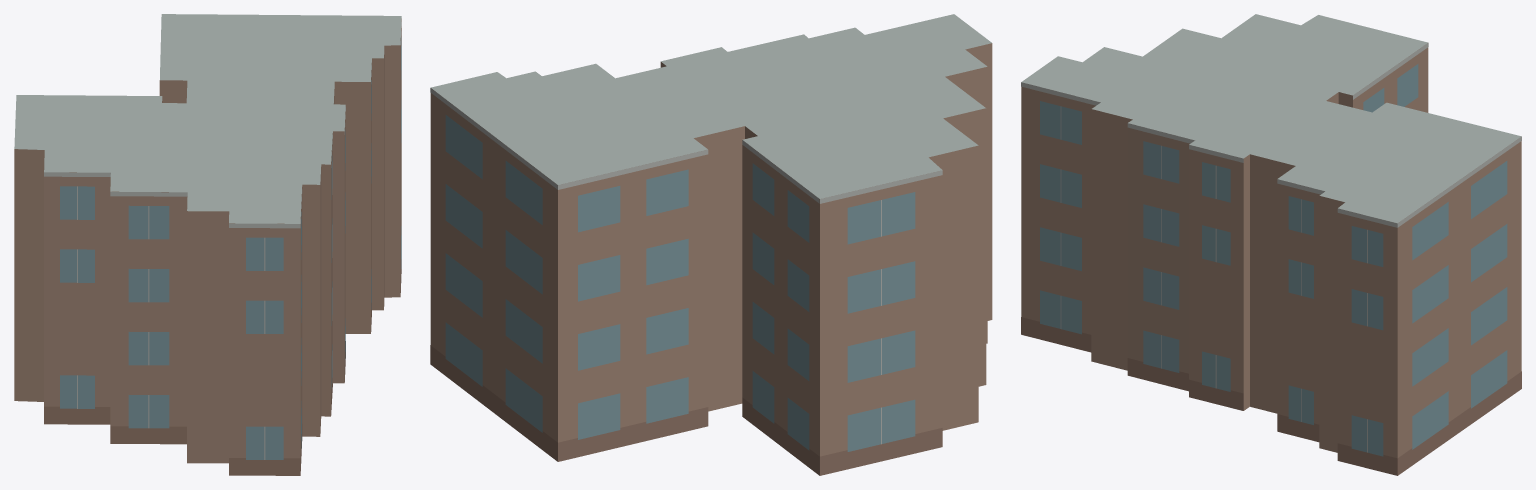
File: survey-upis-32592584.glb
3 views of the same model, side by side, from view 1: azimuth 30°, elevation 25°; view 2: azimuth 150°, elevation 25°; view 3: azimuth 270°, elevation 25° (orthographic). The views are drawn at different scales.
Parts seen in each view (by area): view 1: survey-upis-32592584.tmp; view 2: survey-upis-32592584.tmp; view 3: survey-upis-32592584.tmp.
Part boxes in pixels (box(x1,y1,x2,y2)): survey-upis-32592584.tmp: box(14, 14, 401, 475); survey-upis-32592584.tmp: box(430, 14, 992, 475); survey-upis-32592584.tmp: box(1021, 14, 1521, 475).
Size of the model in its own units: 24.55 by 13.8 by 24.8.
